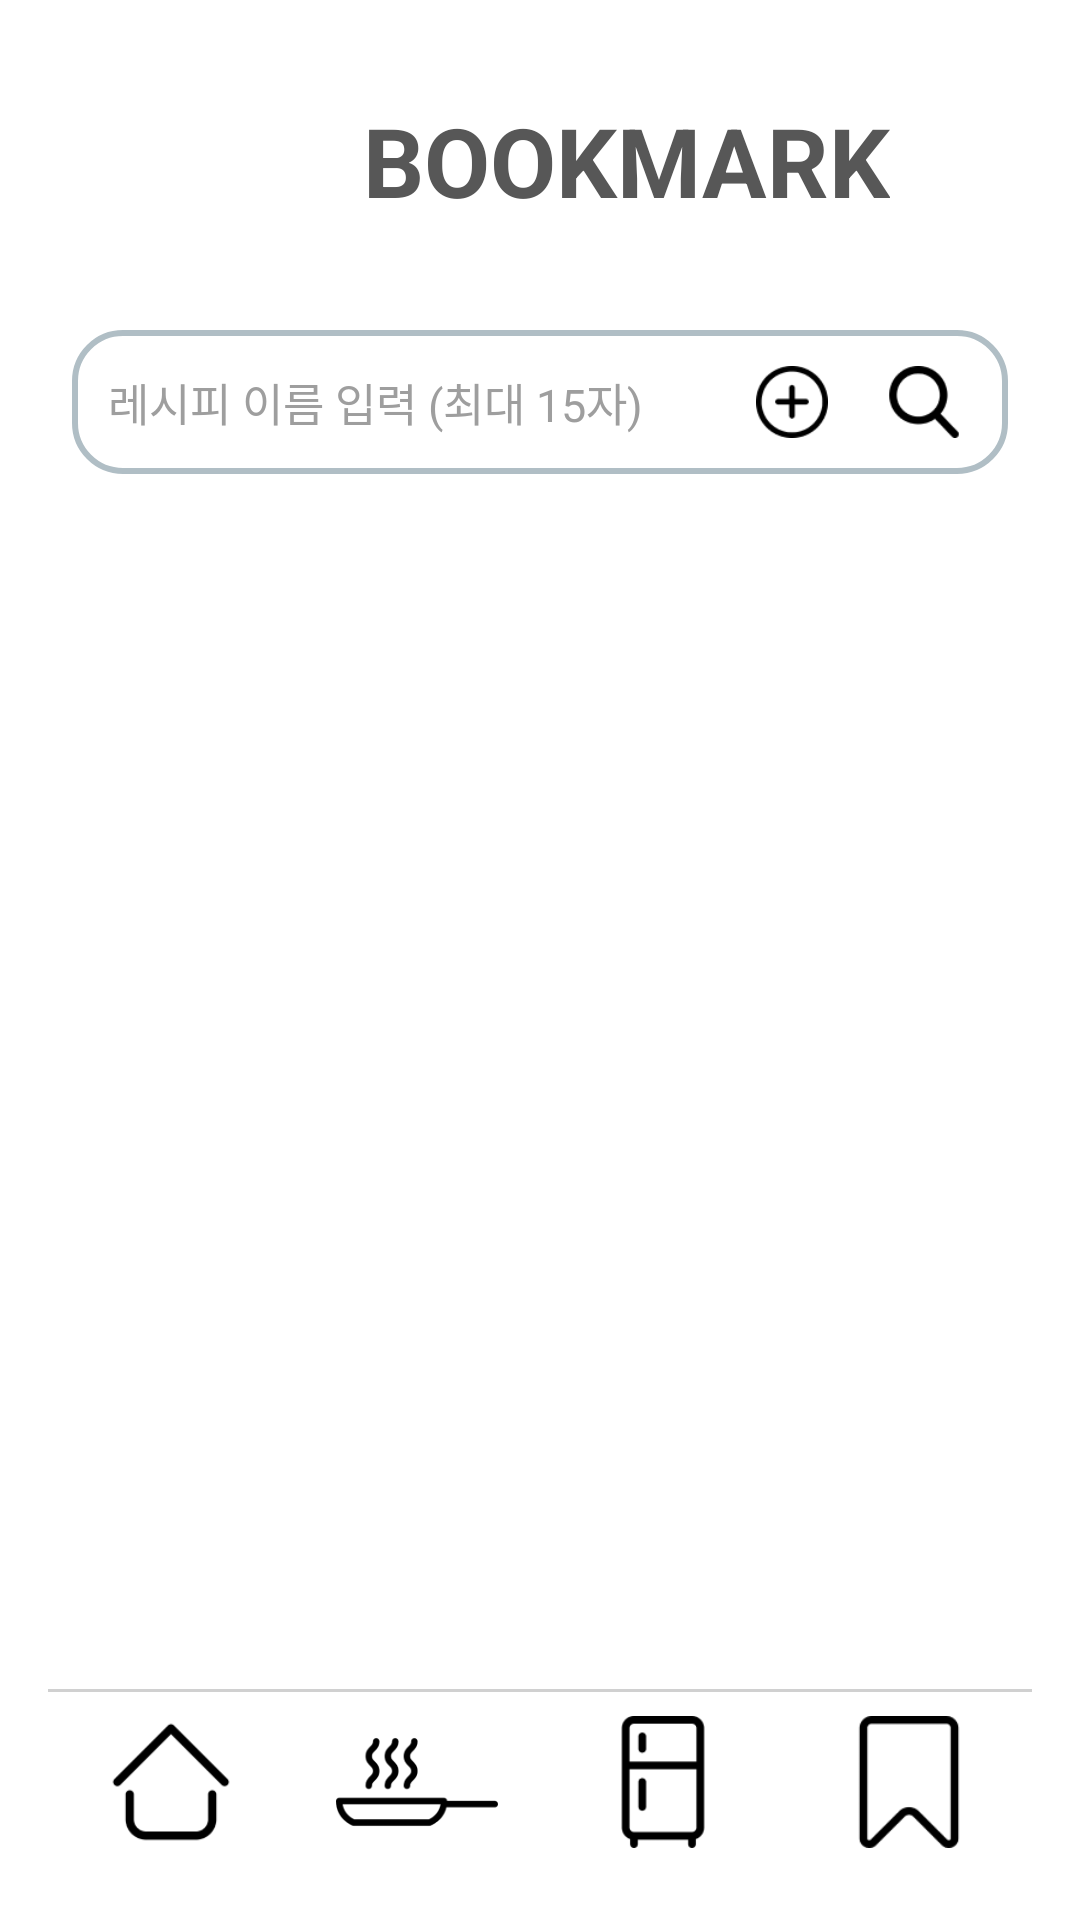

Point at icon controls on the screen. Image size 1080px x 1920px, points as (x=x, y=y).
Add Item: (x=792, y=402)
Fridge: (x=663, y=1782)
Home: (x=171, y=1782)
Recipe Request: (x=417, y=1782)
Saved Recipes: (x=909, y=1782)
Search: (x=924, y=402)
